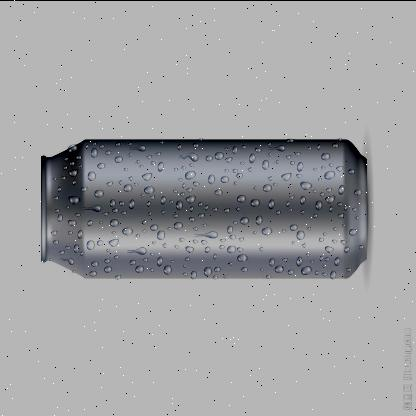Can: (41, 138, 366, 279)
